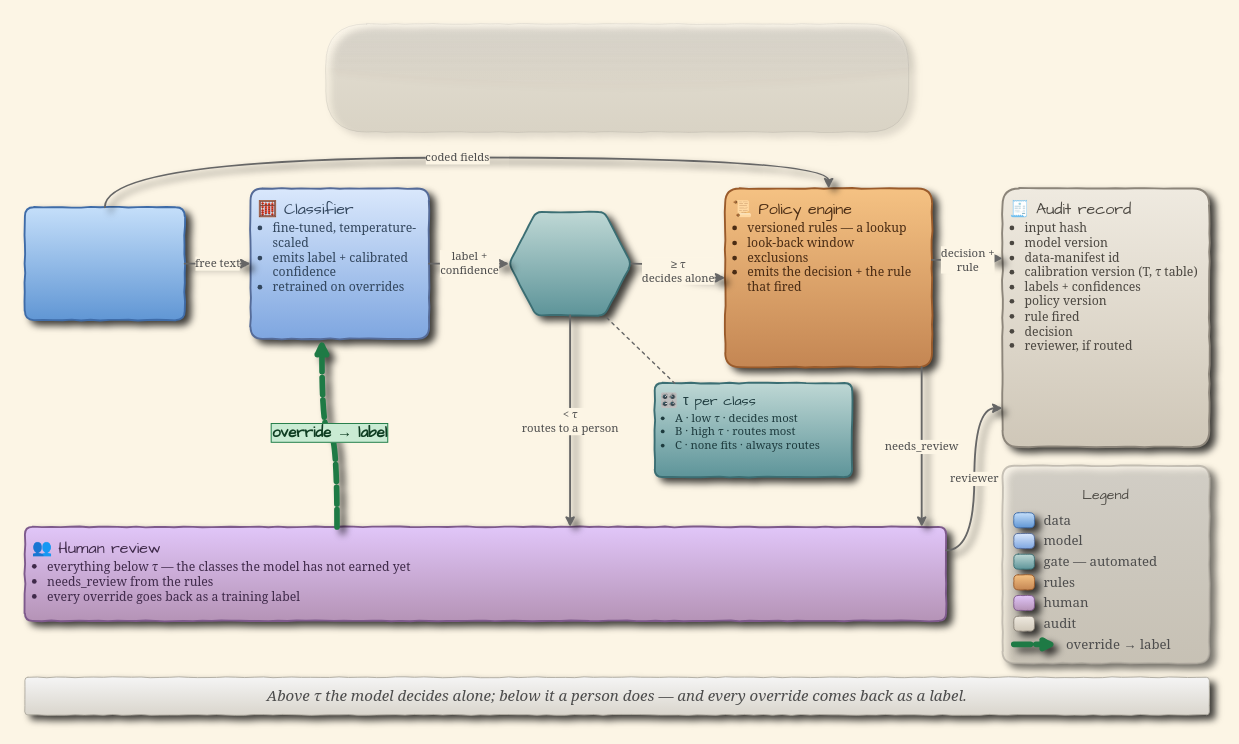
Some shapes in this 1239 by 744 pixel diagram are drawn without their labels. Each missing label, with the centre of its shape:
"Where the model sits τ gate · rules · human lane · audit record by Steven Miers" belongs at [619,80].
"📄 Record free text → the classifier coded fields → the rules" belongs at [107,265].
"🚦 τ gate conf ≥ τ" belongs at [572,265].
